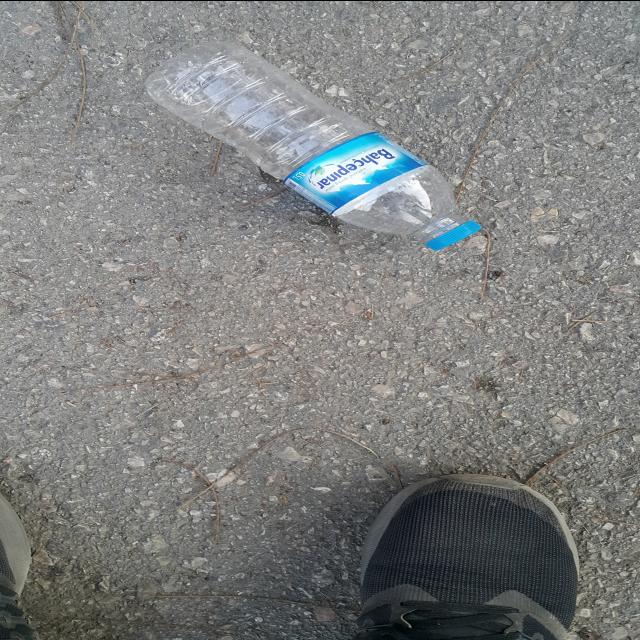Clear plastic bottle: (144, 40, 482, 250)
Plastic bottle cap: (424, 219, 482, 250)
